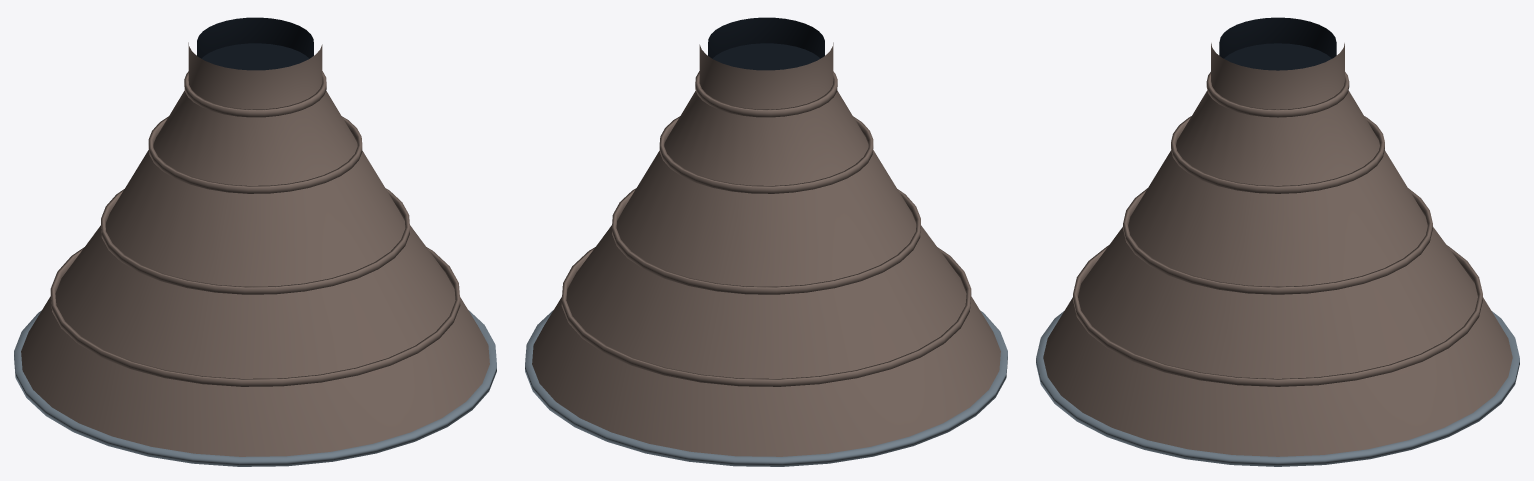
The model's file is mars_cruise_stage.rcs_02.thruster_b.glb.
The picture shows the model from 3 angles, left to right: view 1: azimuth 30°, elevation 25°; view 2: azimuth 150°, elevation 25°; view 3: azimuth 270°, elevation 25°; orthographic projection.
Parts seen in each view (by area): view 1: mars_cruise_stage.rcs_02.thruster_b.bell.mesh_Heat-stained_a, mars_cruise_stage.rcs_02.thruster_b.bell.mesh_Machined_steel, mars_cruise_stage.rcs_02.thruster_b.bell.mesh_Shadowed_inter; view 2: mars_cruise_stage.rcs_02.thruster_b.bell.mesh_Heat-stained_a, mars_cruise_stage.rcs_02.thruster_b.bell.mesh_Machined_steel, mars_cruise_stage.rcs_02.thruster_b.bell.mesh_Shadowed_inter; view 3: mars_cruise_stage.rcs_02.thruster_b.bell.mesh_Heat-stained_a, mars_cruise_stage.rcs_02.thruster_b.bell.mesh_Machined_steel, mars_cruise_stage.rcs_02.thruster_b.bell.mesh_Shadowed_inter.
Boxes of the visible parts, x1,y1,x2,y2 form: mars_cruise_stage.rcs_02.thruster_b.bell.mesh_Heat-stained_a: (21,42,489,456); mars_cruise_stage.rcs_02.thruster_b.bell.mesh_Machined_steel: (14,310,496,466); mars_cruise_stage.rcs_02.thruster_b.bell.mesh_Shadowed_inter: (197,17,313,70); mars_cruise_stage.rcs_02.thruster_b.bell.mesh_Heat-stained_a: (532,42,1000,456); mars_cruise_stage.rcs_02.thruster_b.bell.mesh_Machined_steel: (525,310,1007,466); mars_cruise_stage.rcs_02.thruster_b.bell.mesh_Shadowed_inter: (708,17,824,70); mars_cruise_stage.rcs_02.thruster_b.bell.mesh_Heat-stained_a: (1043,43,1512,456); mars_cruise_stage.rcs_02.thruster_b.bell.mesh_Machined_steel: (1036,311,1519,466); mars_cruise_stage.rcs_02.thruster_b.bell.mesh_Shadowed_inter: (1219,17,1336,70).
Bounding box in the file's own units: 0.0911 × 0.067 × 0.0911.
